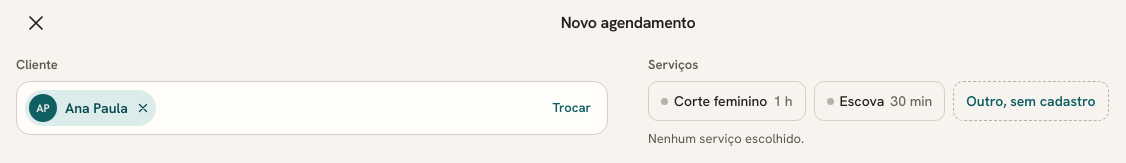
4. criação preservada › o customerId da URL chega escolhido e é trocável
Expected: the text "Ana Paula" is shown, x1=65 y1=98 x2=128 y2=116
Click the button "Trocar" at (576, 108), box x1=552 y1=90 x2=599 y2=126
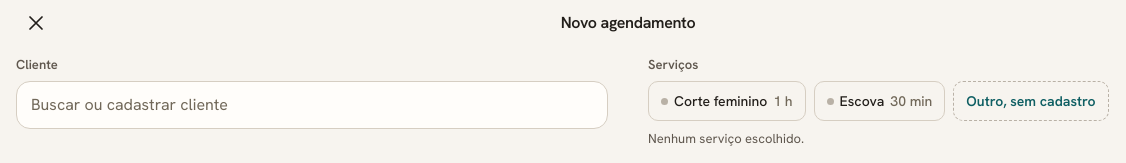
Now the field named "Nome do cliente" is shown, box x1=16 y1=81 x2=608 y2=129
